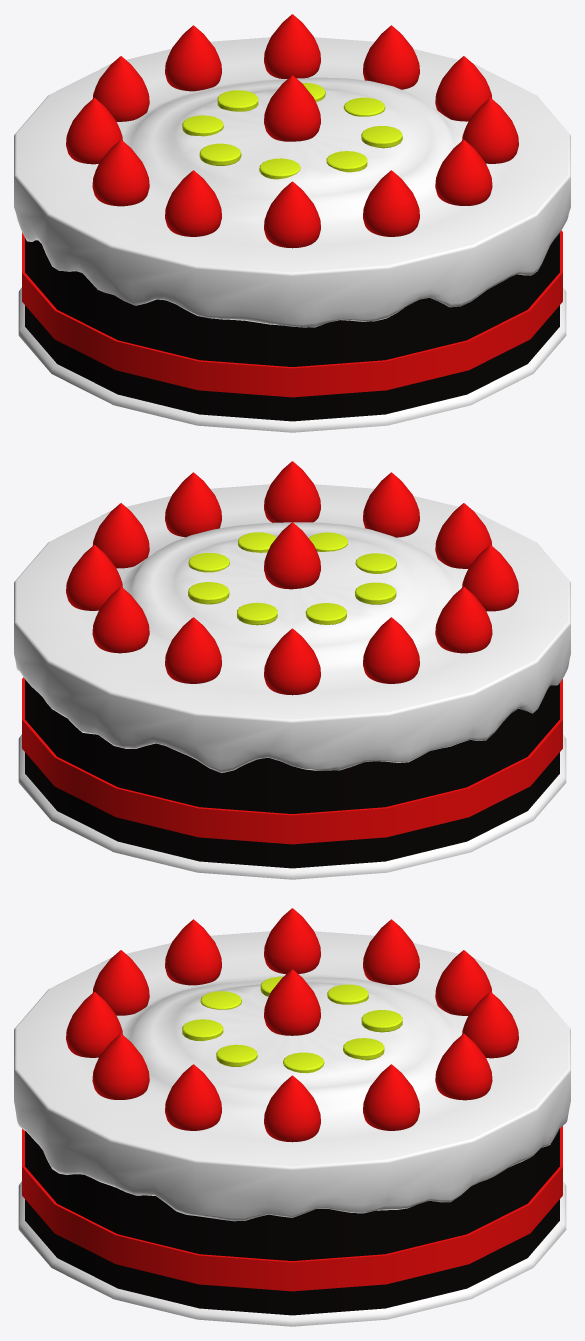
Rendered from Cake.FBX.
The picture shows the model from 3 angles, top to bottom: view 1: azimuth 30°, elevation 25°; view 2: azimuth 150°, elevation 25°; view 3: azimuth 270°, elevation 25°; orthographic projection.
Parts seen in each view (by area): view 1: Cylinder001; view 2: Cylinder001; view 3: Cylinder001.
Part boxes in pixels (x1=…): Cylinder001: x1=14, y1=14, x2=570, y2=432; Cylinder001: x1=14, y1=461, x2=570, y2=879; Cylinder001: x1=14, y1=908, x2=570, y2=1326.
Bounding box in the file's own units: 132 × 61.56 × 130.
